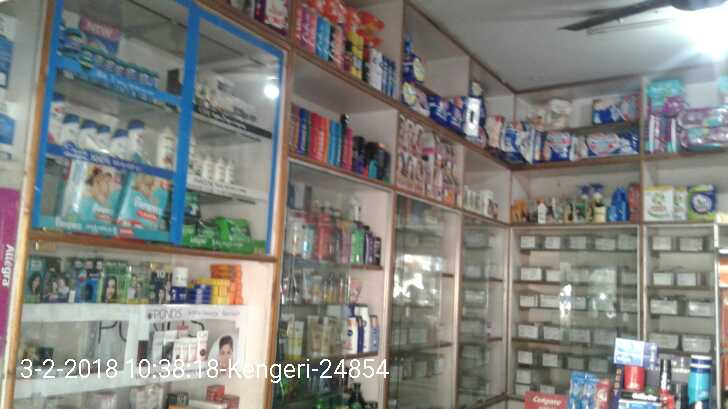beauty: (45, 89, 63, 150), (156, 125, 175, 173), (56, 106, 79, 145), (127, 116, 146, 162), (93, 119, 111, 152), (79, 116, 95, 147), (201, 145, 215, 180), (113, 126, 127, 159), (214, 154, 226, 184), (226, 158, 237, 185)
pharmacy: (58, 158, 116, 226), (122, 165, 166, 235), (218, 215, 257, 247), (185, 185, 205, 242), (79, 42, 94, 66), (65, 30, 82, 50), (139, 67, 152, 87), (126, 62, 138, 83), (104, 51, 114, 73), (93, 48, 104, 67), (115, 60, 126, 78), (150, 72, 159, 91)
